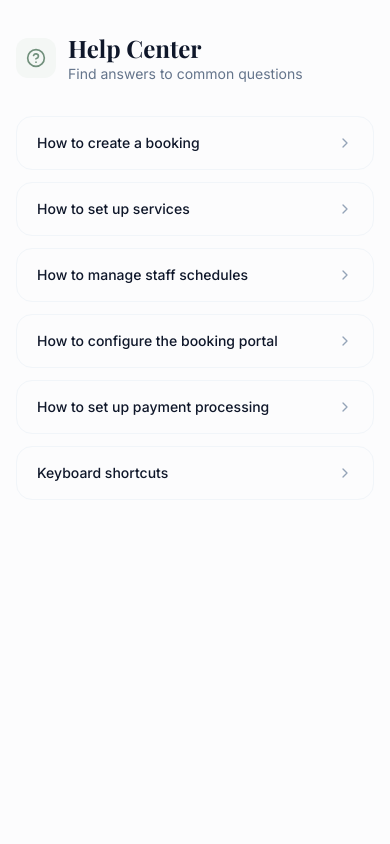
Test: HelpPage › collapses FAQ item on second click
The image size is (390, 844).
Click the button "How to create a booking" at (195, 143), box [17,117,373,169]
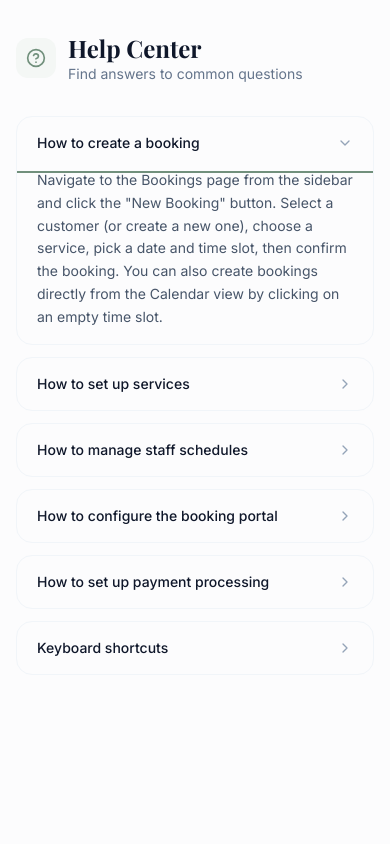
expect the text "Navigate to the Bookings page" is shown: met, box [37,171,353,324]
Click the button "How to create a booking" at (195, 143), box [17,117,373,169]
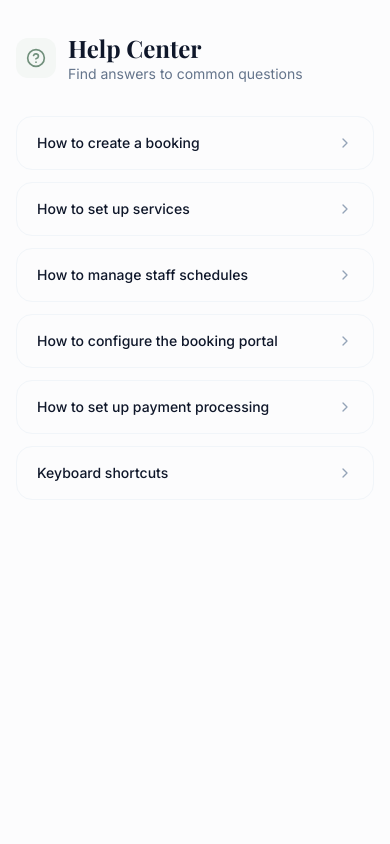
expect the text "Navigate to the Bookings page" is gone: met
